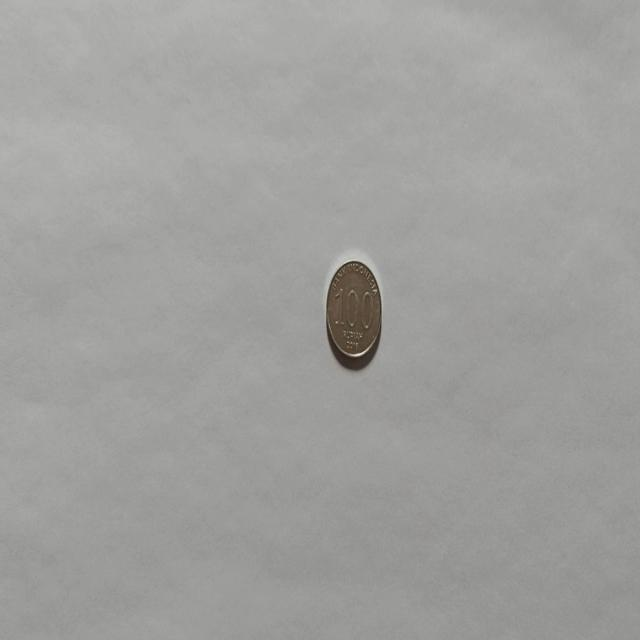seratus rupiah: (324, 258, 382, 366)
